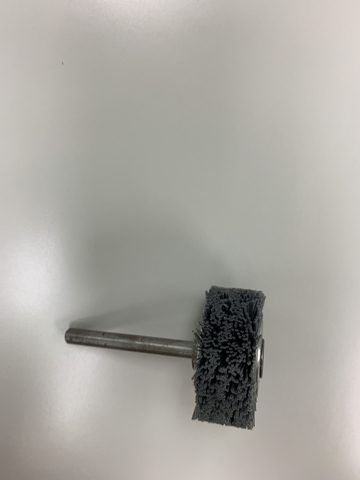Wheel Brush: (62, 284, 278, 420), (88, 282, 271, 433)
